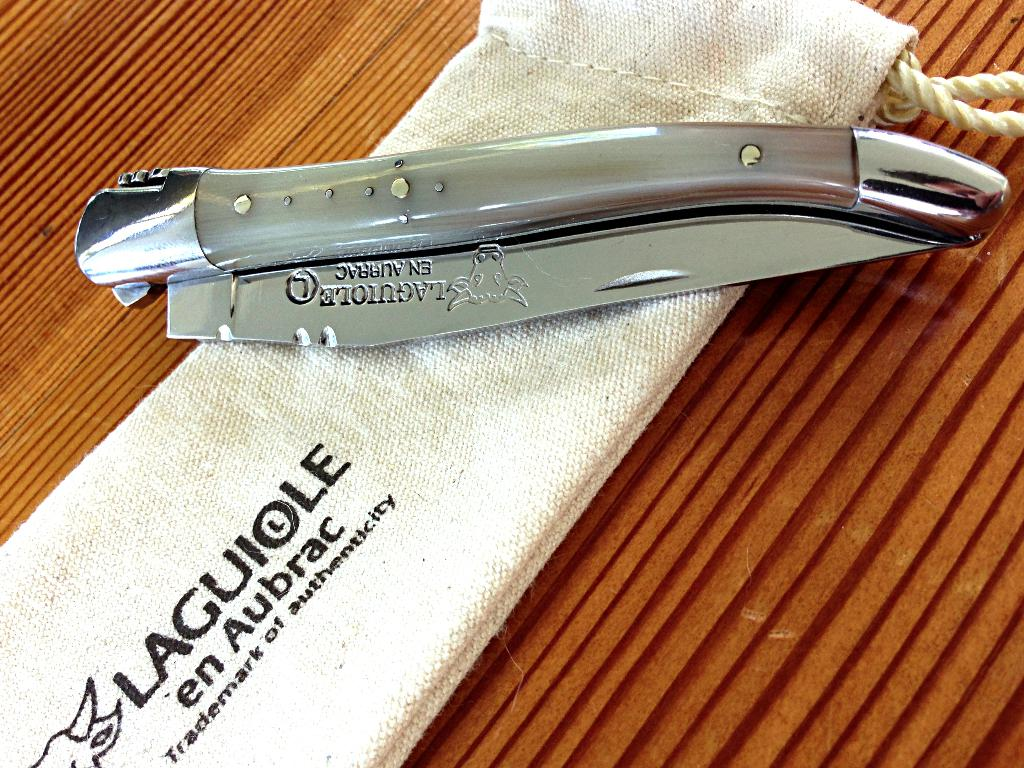knife: (74, 121, 1011, 346)
